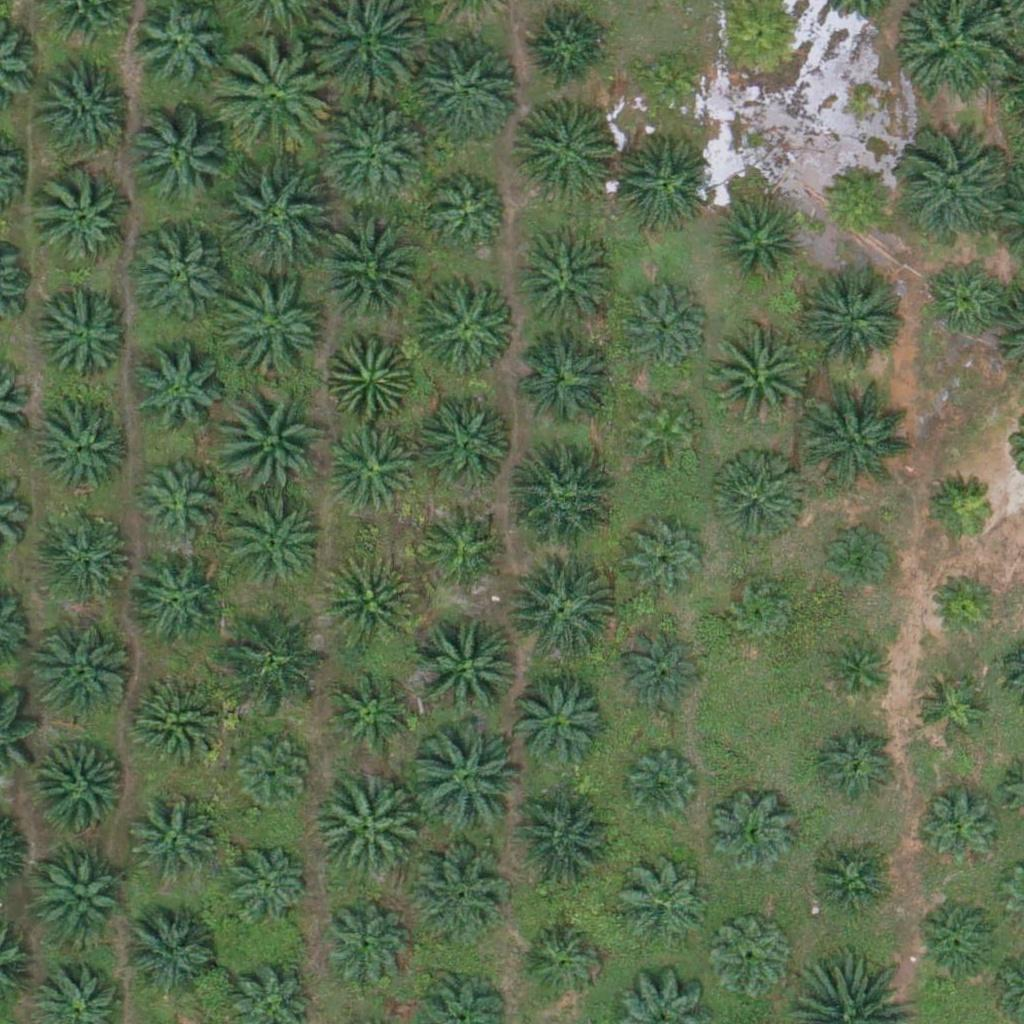Kelapa_Sawit: (500, 790, 613, 903), (409, 727, 522, 840), (220, 599, 333, 712), (220, 274, 333, 387), (219, 158, 332, 271), (898, 132, 1011, 245), (320, 95, 432, 209), (415, 612, 527, 726), (309, 771, 421, 884), (219, 488, 331, 601), (214, 378, 326, 491), (217, 41, 329, 154), (312, 210, 424, 323), (410, 30, 522, 143), (501, 441, 613, 554), (502, 555, 614, 668), (803, 381, 915, 494), (509, 677, 609, 778), (406, 844, 506, 945), (123, 673, 223, 774), (125, 902, 225, 1003), (33, 621, 133, 722), (32, 397, 132, 498), (34, 168, 134, 269), (130, 105, 230, 206), (125, 341, 225, 442), (128, 553, 228, 654), (318, 552, 418, 653), (417, 396, 517, 497), (416, 272, 516, 373), (518, 236, 618, 337), (516, 327, 616, 428), (609, 134, 709, 235), (708, 327, 808, 428), (805, 266, 905, 367), (30, 740, 130, 840), (31, 845, 131, 945), (40, 508, 140, 608), (35, 284, 135, 384), (42, 55, 142, 155), (129, 223, 229, 323), (515, 98, 615, 198), (709, 446, 809, 546), (915, 781, 1003, 870), (813, 725, 901, 813), (801, 841, 889, 929), (231, 730, 319, 818), (220, 837, 308, 925), (518, 916, 606, 1004), (707, 917, 795, 1005), (133, 798, 221, 886), (922, 258, 1010, 346), (329, 422, 417, 510), (325, 673, 413, 761), (423, 497, 511, 585), (616, 630, 704, 718), (623, 512, 711, 600), (914, 896, 1001, 984), (321, 898, 408, 986), (709, 788, 796, 876), (620, 861, 707, 949), (135, 455, 222, 543), (327, 330, 414, 418), (428, 172, 515, 260), (523, 2, 610, 90), (621, 279, 708, 367), (715, 199, 802, 287), (819, 160, 894, 236), (624, 751, 699, 827), (822, 522, 897, 598), (820, 634, 895, 710), (631, 45, 706, 121), (927, 472, 1002, 547), (628, 393, 703, 468), (912, 672, 987, 747), (726, 577, 801, 652), (927, 568, 1002, 643)
